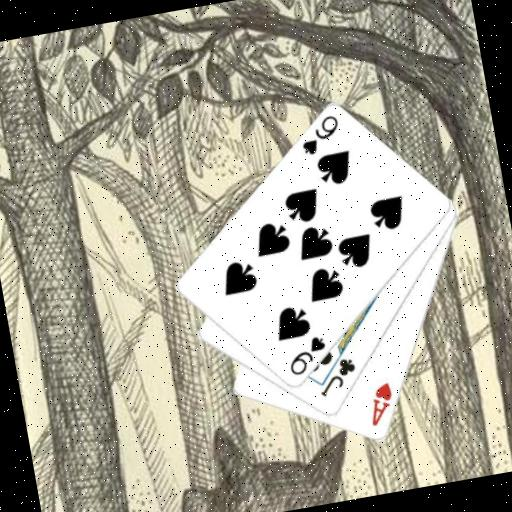9S: (294, 110, 344, 158), (282, 331, 332, 378)
AH: (361, 378, 399, 429)
JC: (312, 353, 362, 400)
